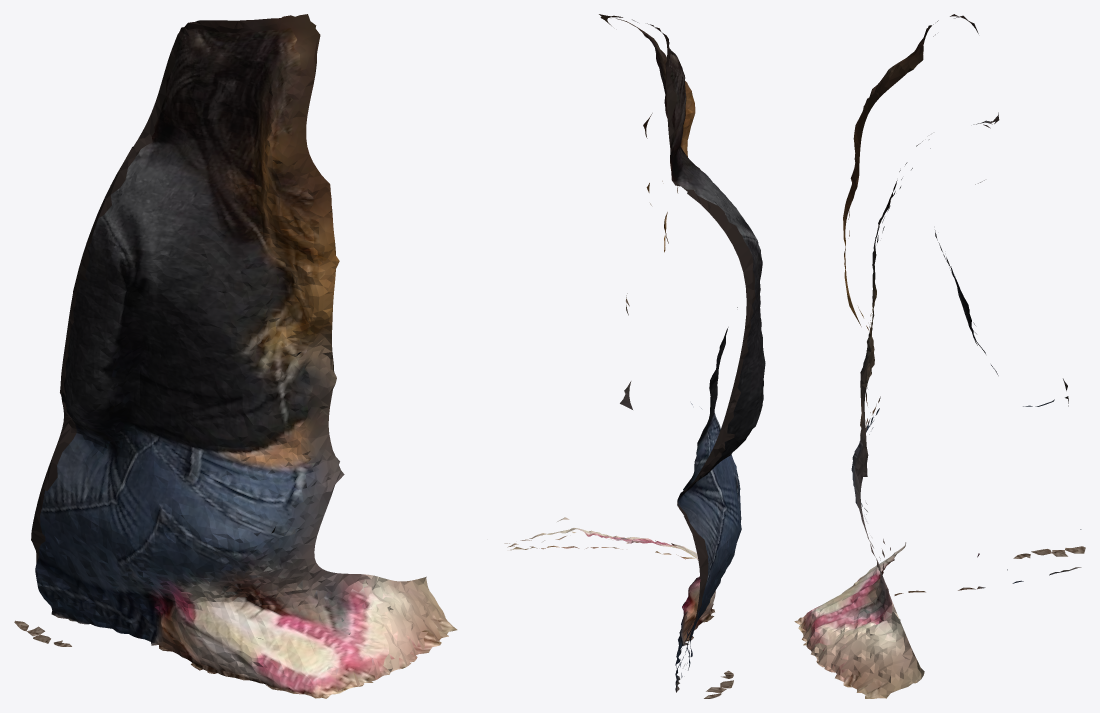
3 views of the same model, side by side, from view 1: azimuth 30°, elevation 25°; view 2: azimuth 150°, elevation 25°; view 3: azimuth 270°, elevation 25° (orthographic). The views are drawn at different scales.
Size of the model in its own units: 0.4654 by 0.852 by 0.3821.
Materials: 2 (2 with a texture image).
